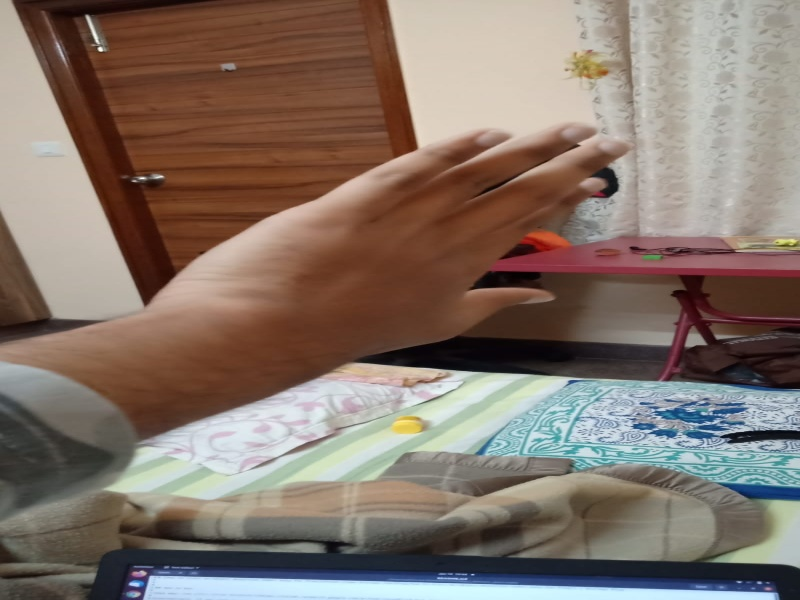Hand: (124, 115, 636, 393)
